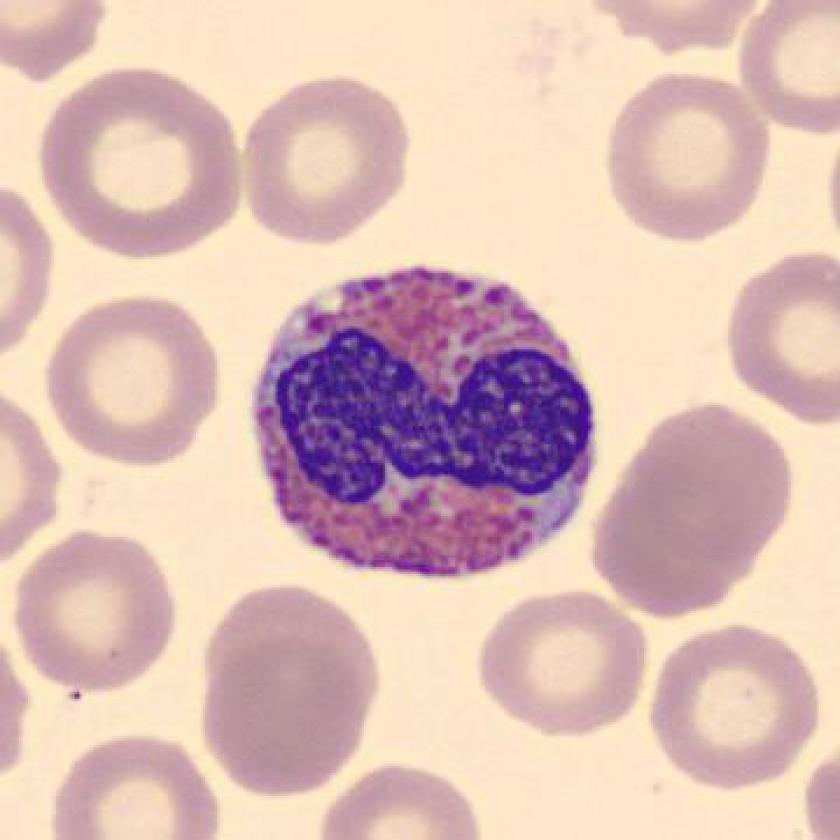eosinophil: (237, 249, 610, 598)
